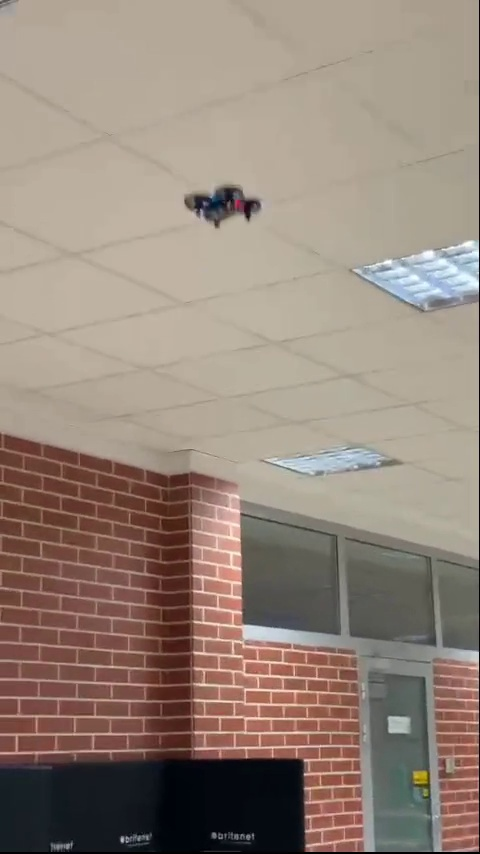drone: (183, 186, 264, 239)
